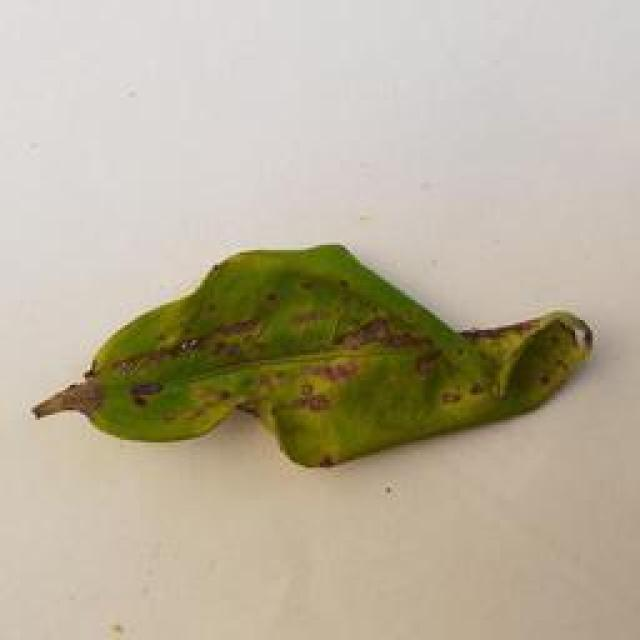Helopeltis: (32, 235, 594, 472)
